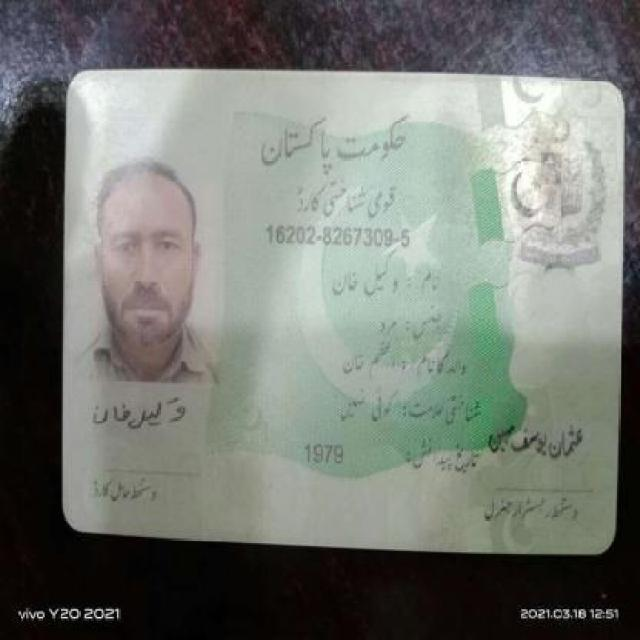Front: (46, 59, 623, 558)
